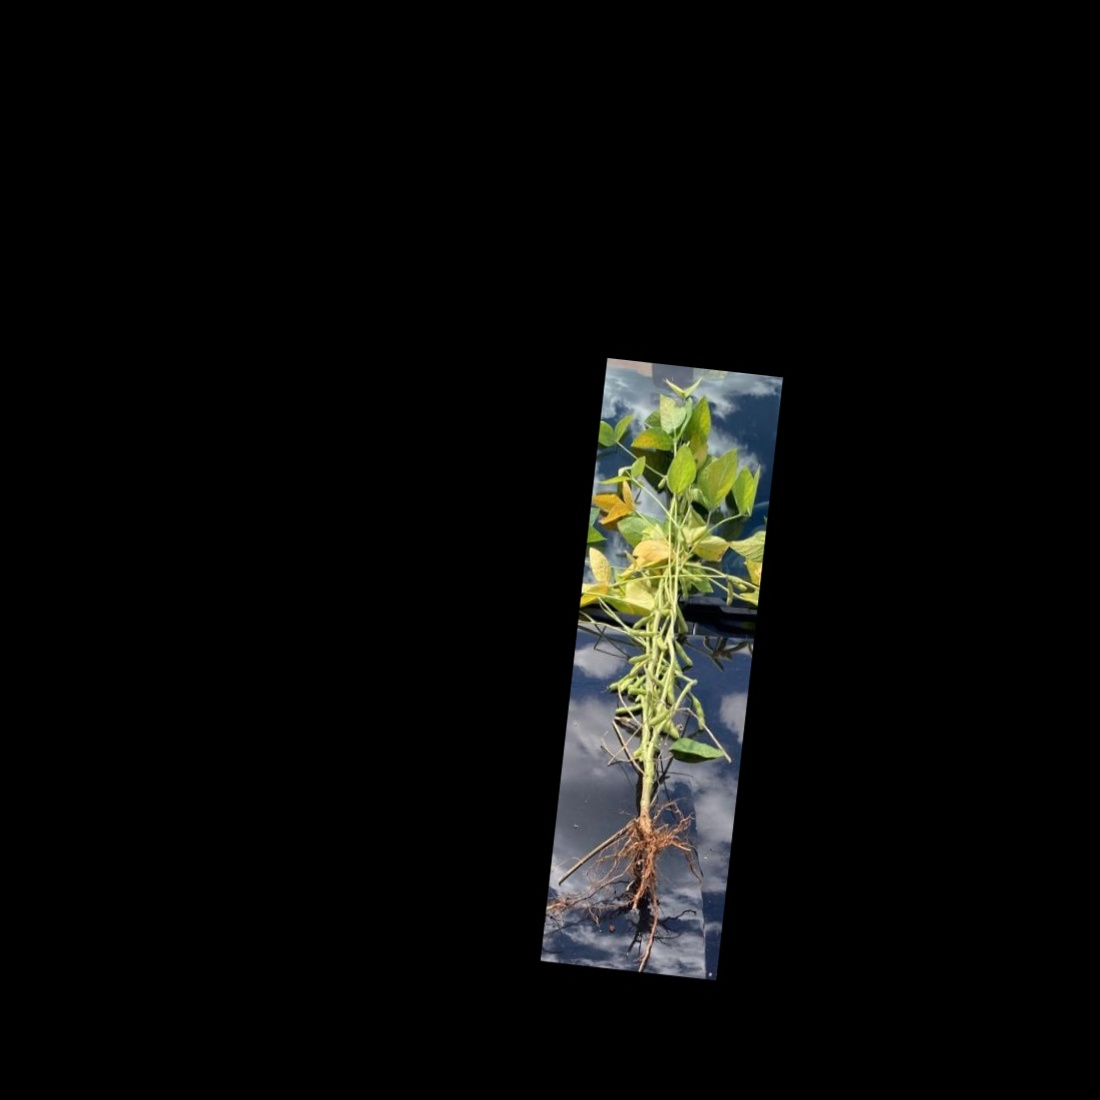pod: (685, 690, 710, 735), (671, 637, 697, 669), (673, 604, 694, 637), (614, 699, 644, 716), (631, 610, 653, 631), (626, 684, 651, 698), (628, 627, 657, 639)
soy: (555, 368, 775, 937)
